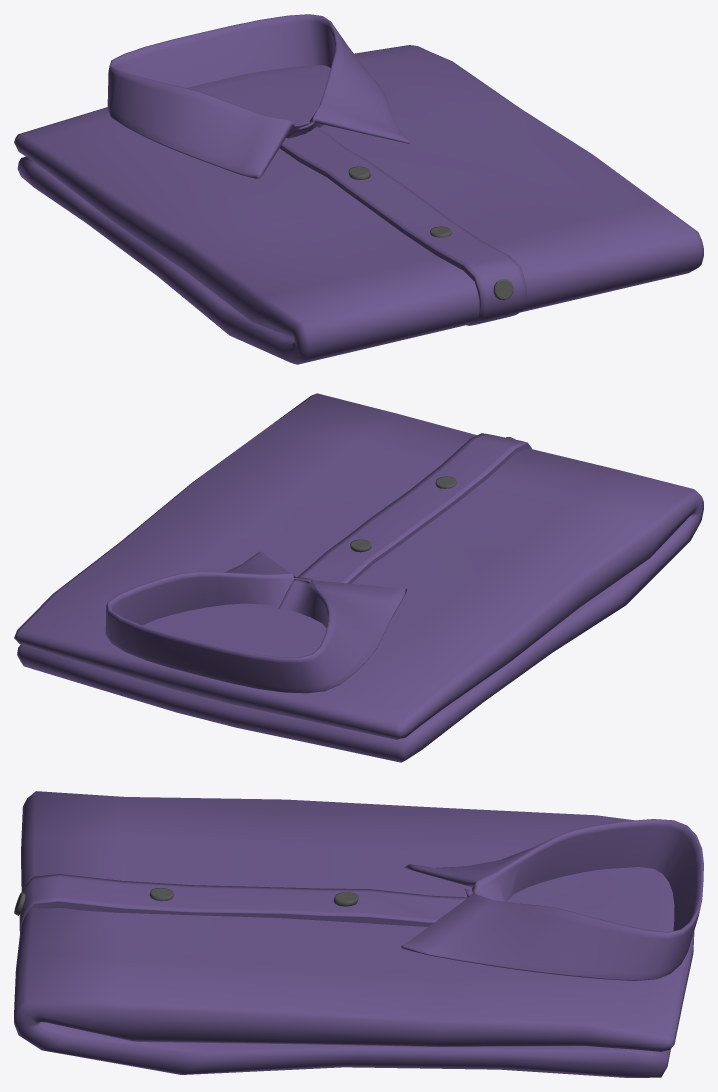
The model's file is Folded_Shirt05.fbx.
The picture shows the model from 3 angles, top to bottom: view 1: azimuth 30°, elevation 25°; view 2: azimuth 150°, elevation 25°; view 3: azimuth 270°, elevation 25°; orthographic projection. The views are drawn at different scales.
Parts seen in each view (by area): view 1: Folded_Shirt05; view 2: Folded_Shirt05; view 3: Folded_Shirt05.
Boxes of the visible parts, x1,y1,x2,y2 form: Folded_Shirt05: [14, 14, 703, 364]; Folded_Shirt05: [14, 393, 703, 762]; Folded_Shirt05: [14, 791, 703, 1077].
Size of the model in its own units: 25 by 5.51 by 33.26.
